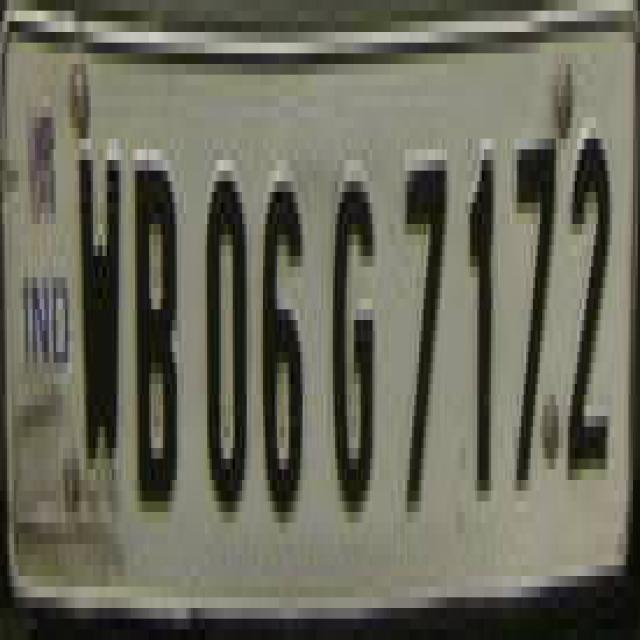license_plate: (0, 21, 607, 639)
